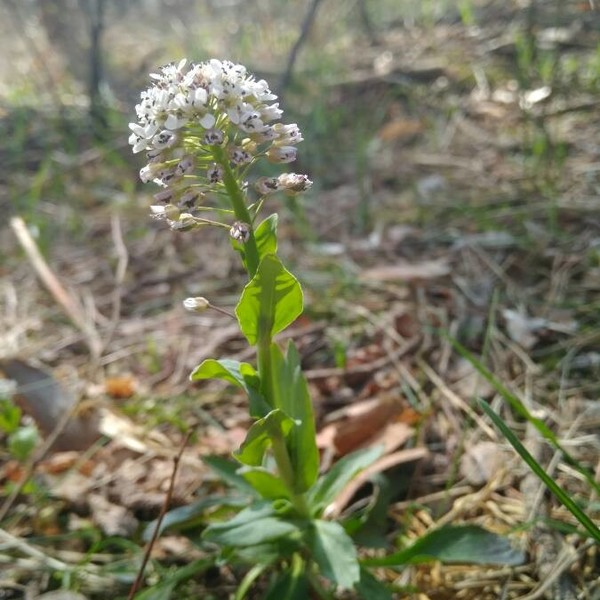obstacle: (131, 71, 356, 577)
